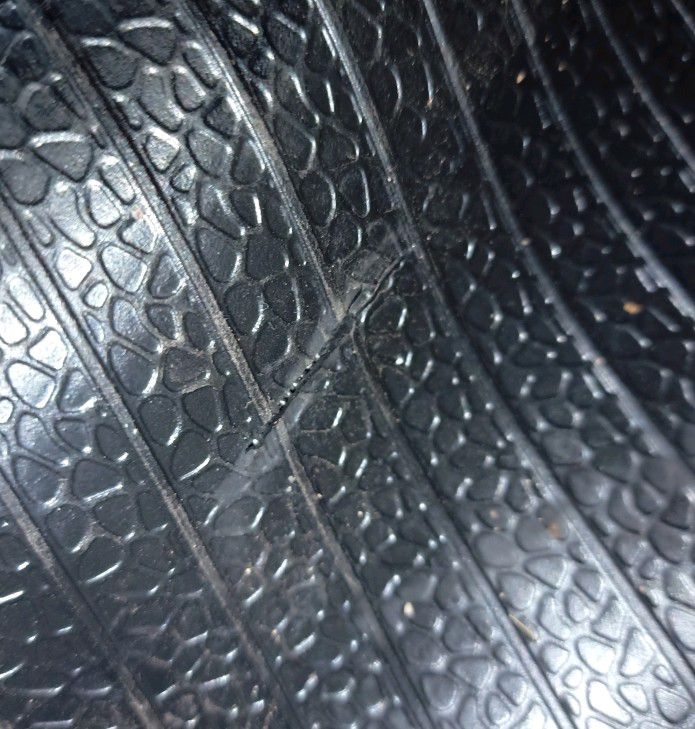cut: (211, 220, 436, 507)
